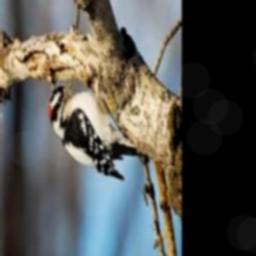Woodpecker: (49, 79, 149, 180)
